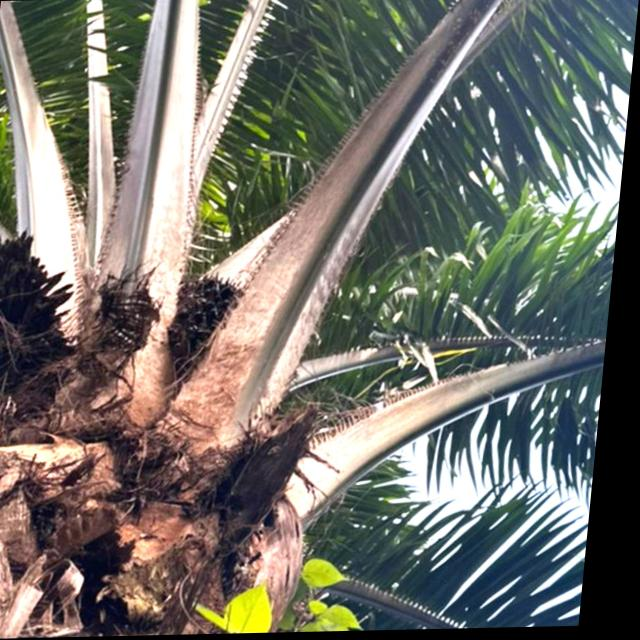unripe: (172, 268, 249, 370)
